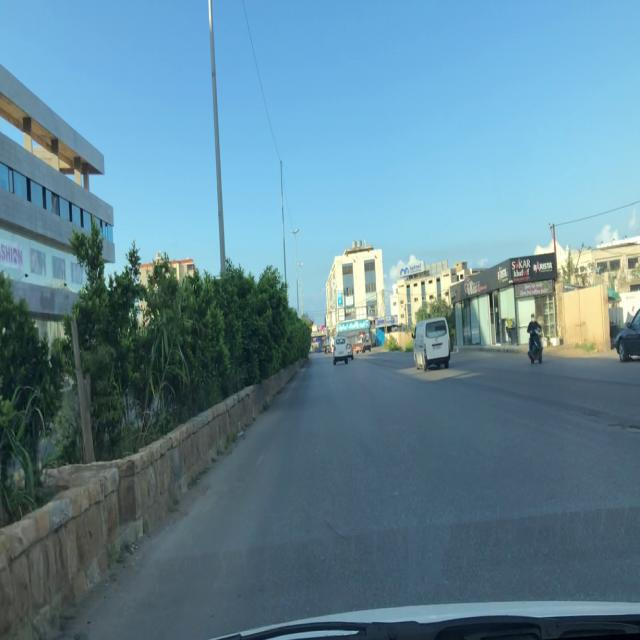Pothole: (603, 419, 640, 435)
